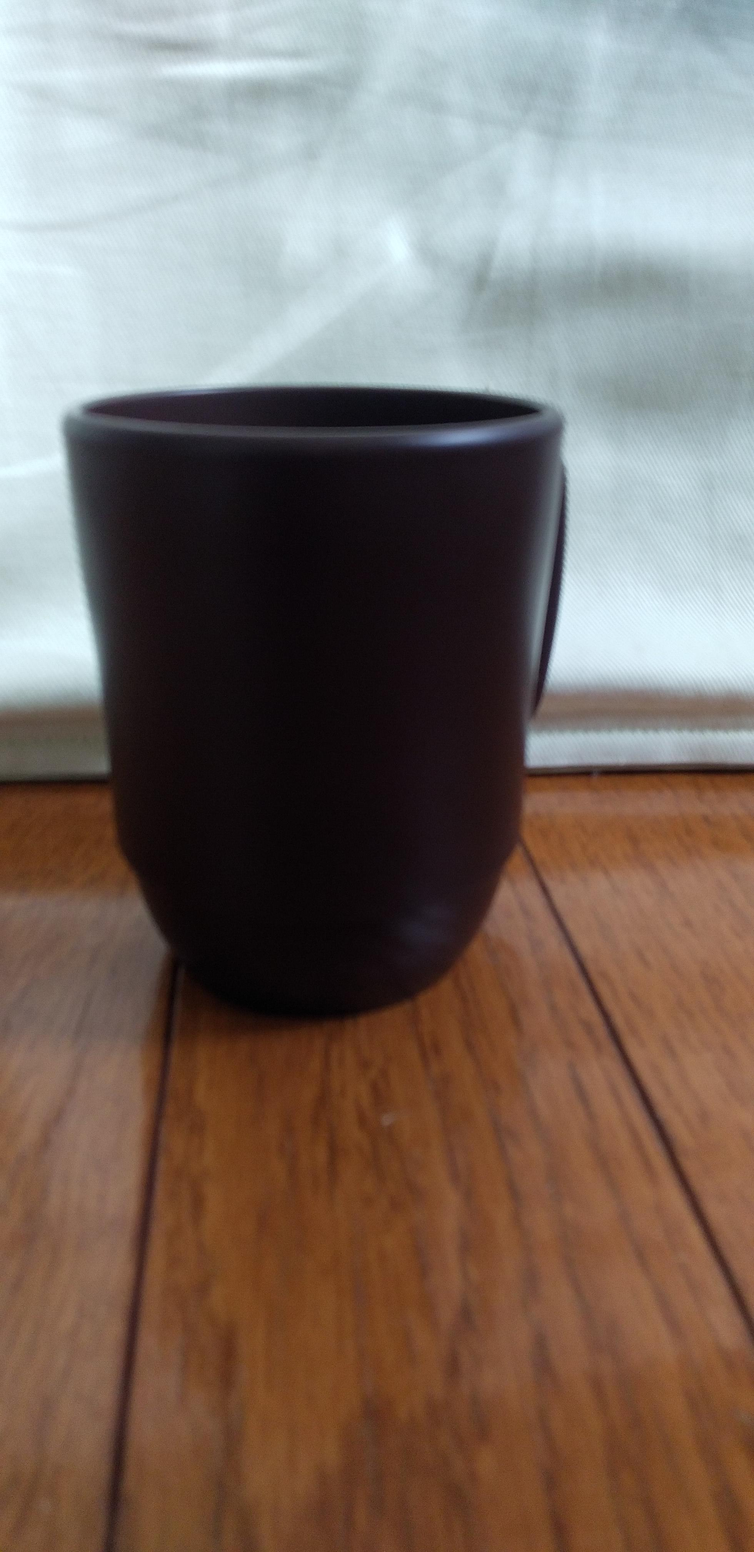mug-real100-3d100: (64, 386, 566, 1016)
